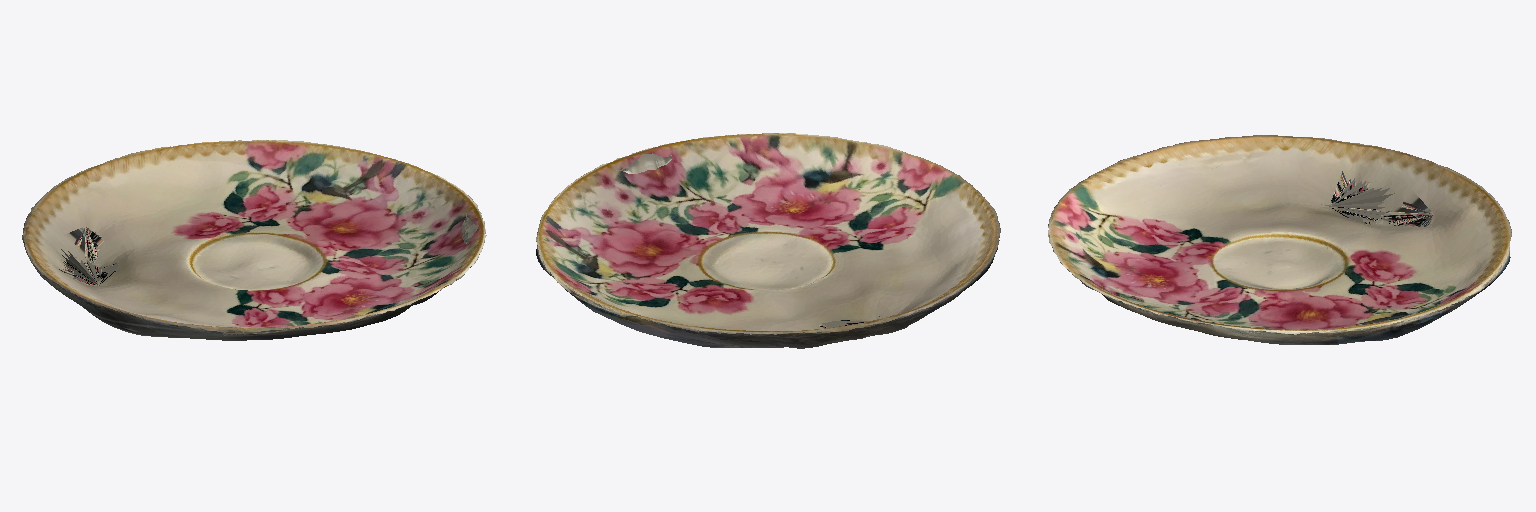
3 renders of one model, left to right at view 1: azimuth 30°, elevation 25°; view 2: azimuth 150°, elevation 25°; view 3: azimuth 270°, elevation 25°, orthographic.
Visible parts, largest first — view 1: 23_06_2024.001; view 2: 23_06_2024.001; view 3: 23_06_2024.001.
Boxes of the visible parts, x1,y1,x2,y2 form: 23_06_2024.001: [22, 140, 486, 340]; 23_06_2024.001: [536, 133, 1000, 348]; 23_06_2024.001: [1048, 135, 1511, 344].
Bounding box in the file's own units: 0.1543 × 0.019 × 0.1543.
Materials: 1 (1 with a texture image).